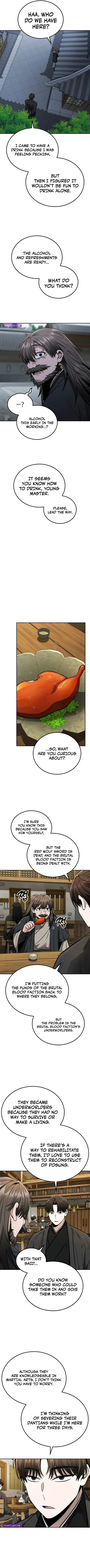bubbles: (1, 1085, 90, 1193), (1, 1350, 89, 1456), (5, 118, 89, 210), (5, 963, 86, 1046), (10, 808, 81, 884), (14, 1244, 84, 1312), (10, 235, 81, 299), (12, 461, 80, 525), (6, 387, 60, 442), (31, 732, 82, 776), (17, 1, 65, 45)
